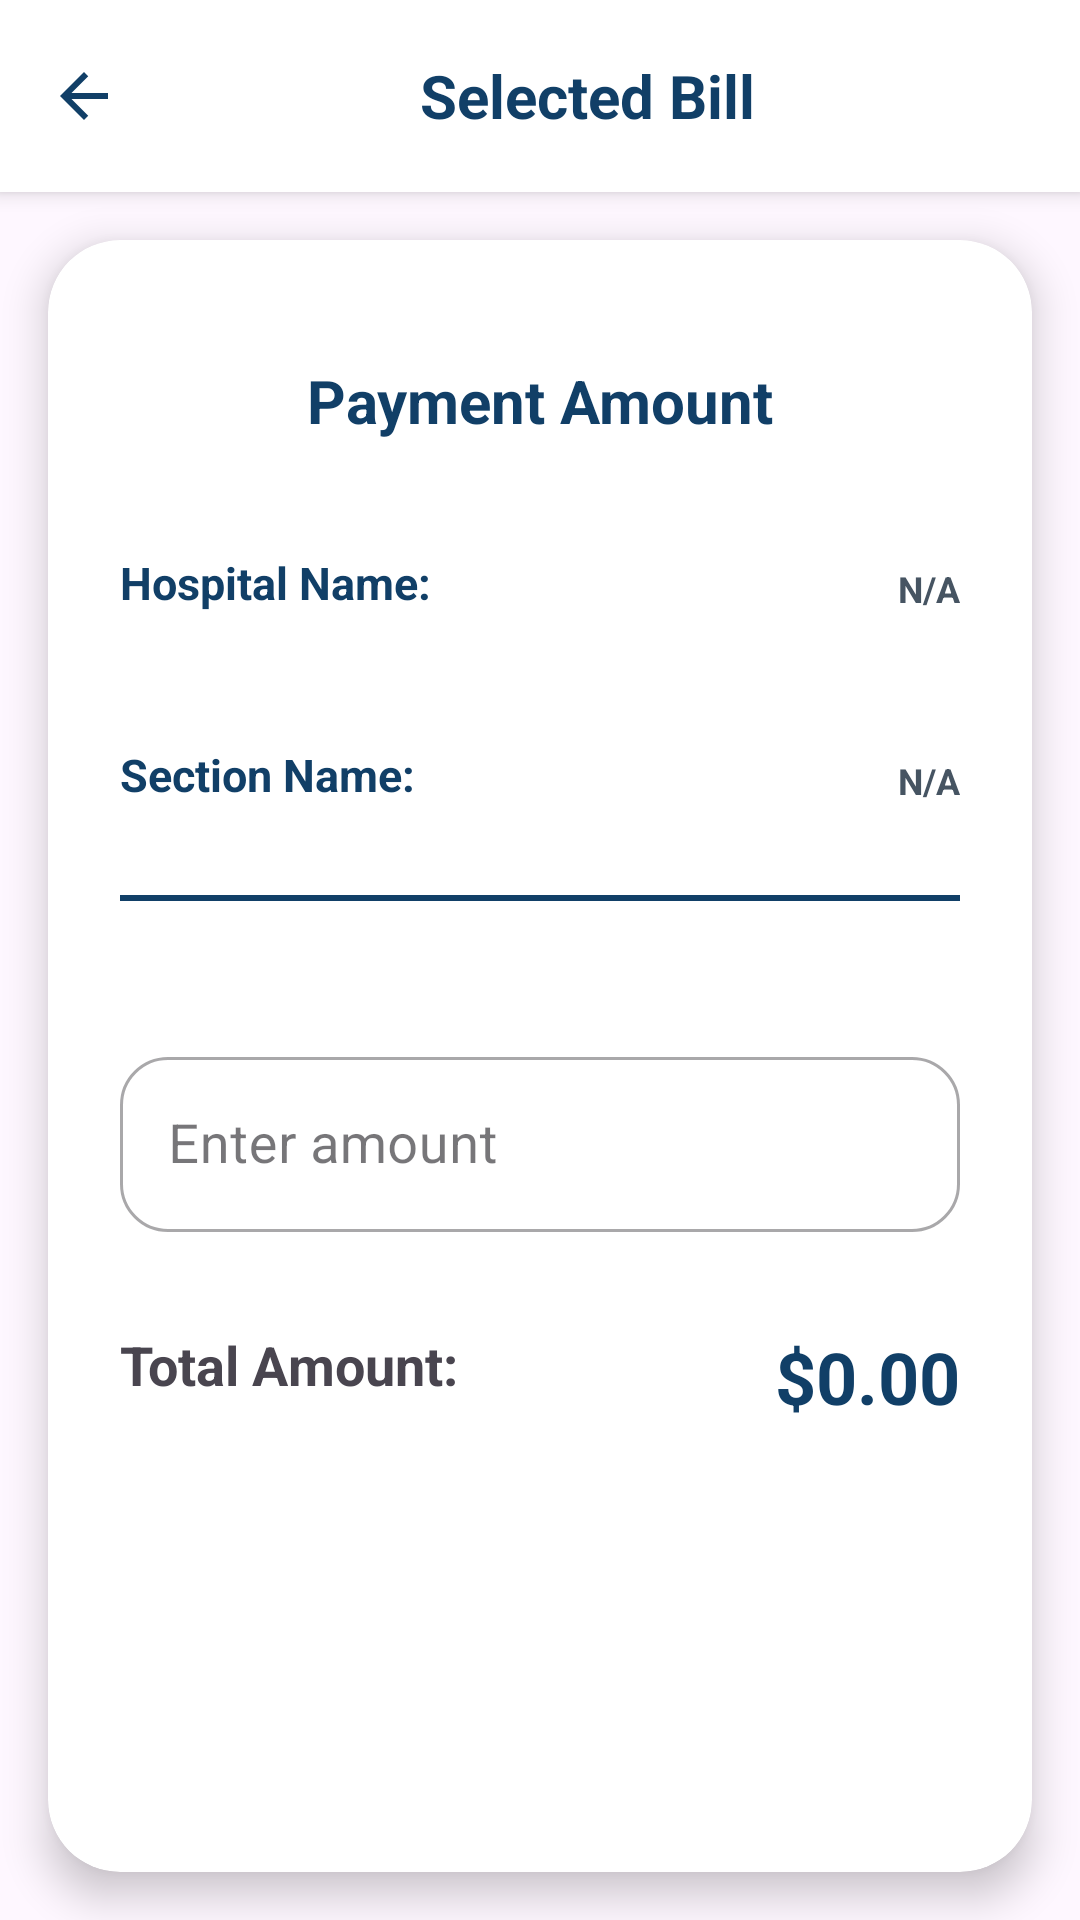

Icons on this 1080px x 1920px Android screen, each with its box as detection(x1, y1, x2, y2):
Back button: detection(60, 72, 108, 120)
